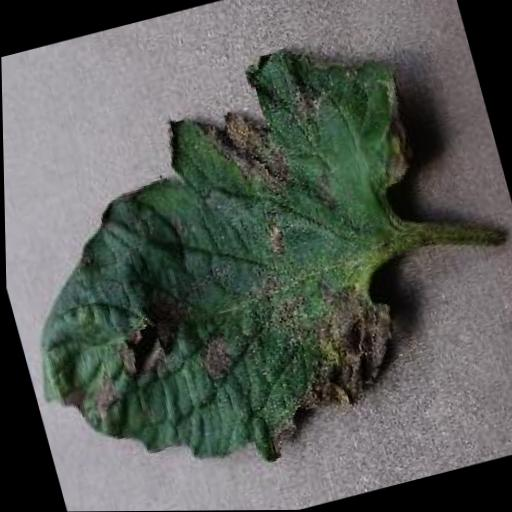Early Blight: (0, 20, 485, 512)
